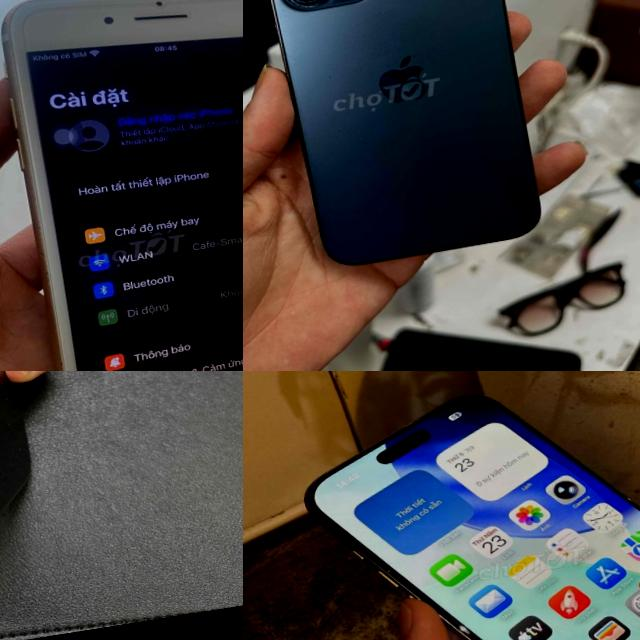gen_12_13: (243, 0, 562, 288)
gen_16: (307, 396, 640, 640)
gen_7_8: (0, 0, 243, 371)
